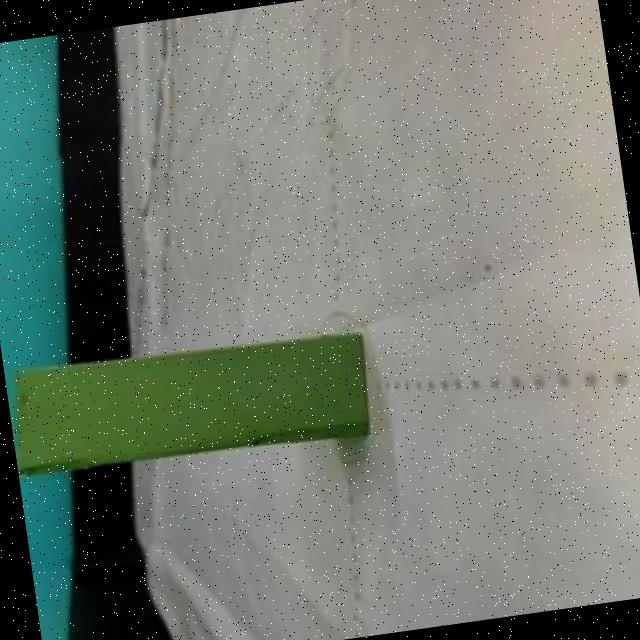greenbox: (4, 324, 373, 482)
